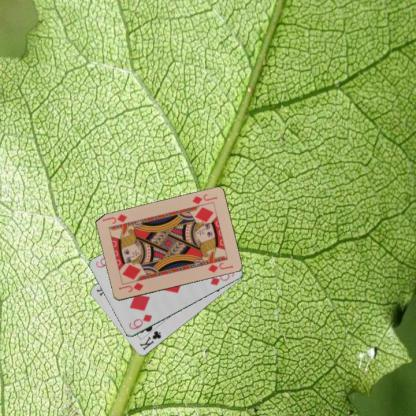6d: (126, 312, 154, 331)
Jd: (189, 191, 218, 206), (116, 280, 145, 294)
Kc: (137, 328, 162, 352)
